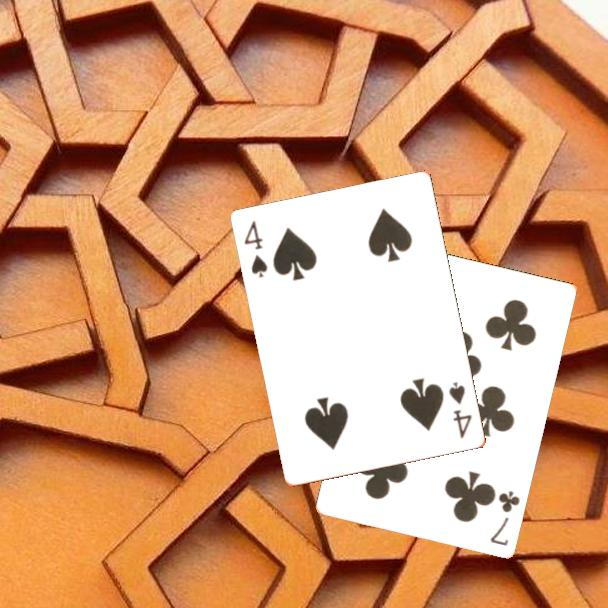c07: (487, 487, 523, 548)
s04: (241, 217, 271, 281), (446, 378, 475, 441)
